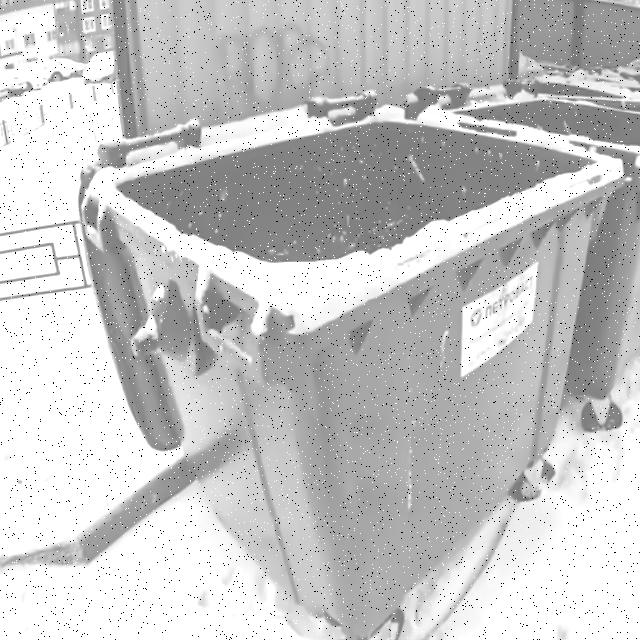Trashcan: (70, 77, 618, 640), (421, 46, 640, 442)
